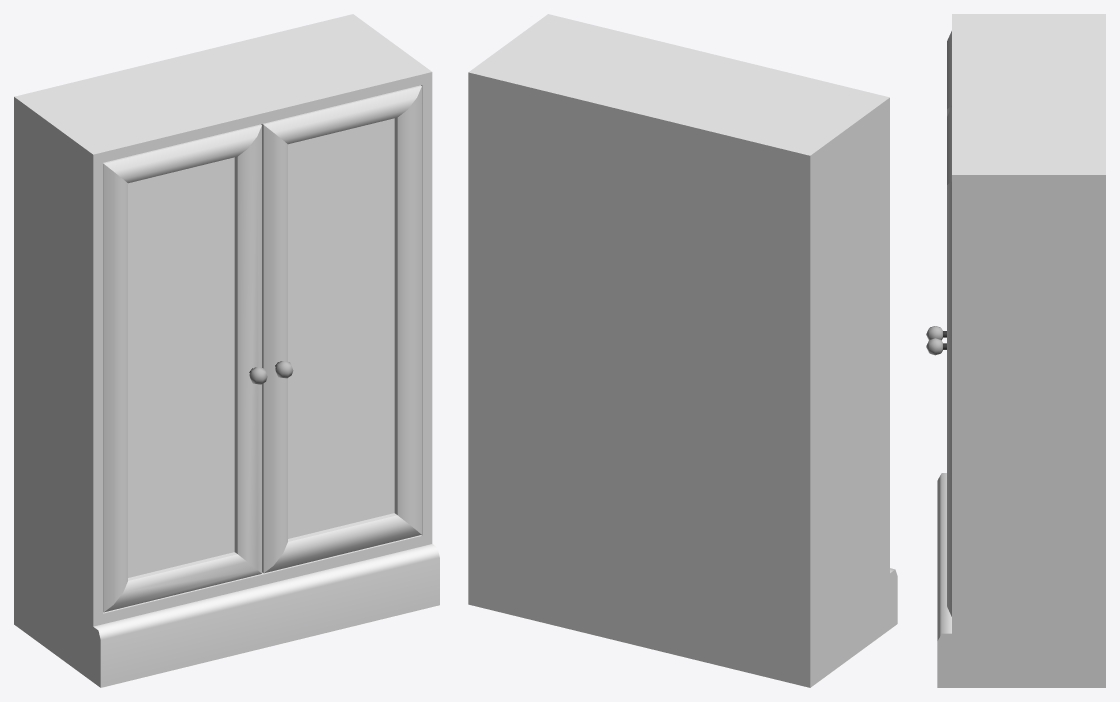
The model's file is cupboard_018.fbx.
3 views of the same model, side by side, from view 1: azimuth 30°, elevation 25°; view 2: azimuth 150°, elevation 25°; view 3: azimuth 270°, elevation 25° (orthographic). The views are drawn at different scales.
Parts seen in each view (by area): view 1: cupboard_018; view 2: cupboard_018; view 3: cupboard_018.
Boxes of the visible parts, x1=… form: cupboard_018: x1=14, y1=14, x2=439, y2=687; cupboard_018: x1=468, y1=14, x2=897, y2=687; cupboard_018: x1=926, y1=14, x2=1105, y2=687.
Size of the model in its own units: 157 by 74.13 by 233.
